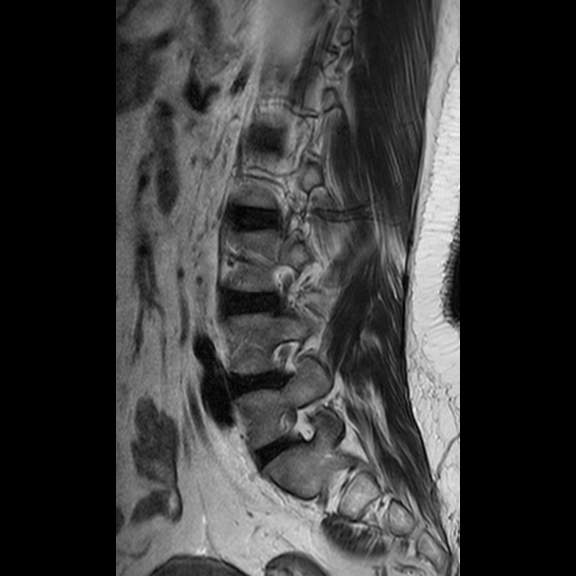LFS0: (268, 395, 323, 460), (262, 328, 311, 392)
